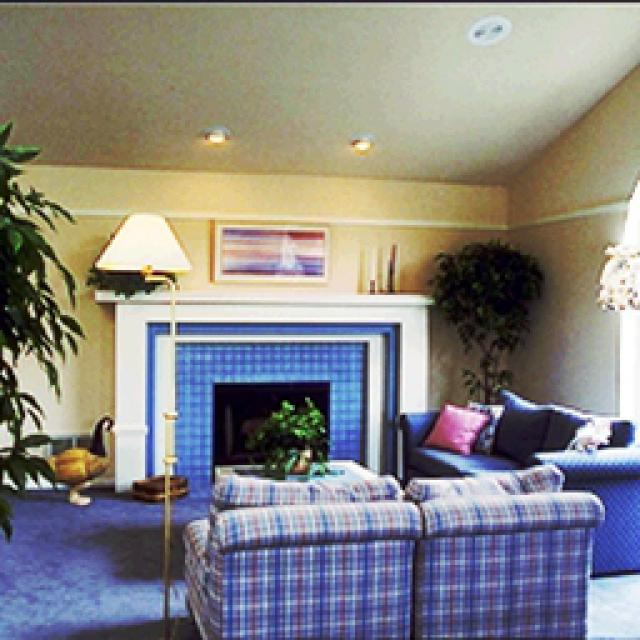2001: (615, 310, 638, 415)
box contants: (128, 470, 185, 500)
candles: (362, 240, 398, 288)
ceiling beam: (0, 2, 635, 182)
ceiling lamps: (345, 132, 368, 150), (202, 125, 225, 140)
curtain crop: (598, 180, 635, 308)
fireplace mantle: (95, 288, 435, 492)
lamp crop: (92, 208, 188, 628)
painting crop: (210, 220, 330, 280)
pillow occluded: (420, 400, 485, 450), (468, 402, 502, 452)
plant -x: (0, 118, 82, 535), (432, 238, 540, 398), (245, 392, 328, 472), (82, 270, 162, 298)
small table part: (210, 452, 385, 480)
smoke detector: (468, 12, 510, 45)
sofa bed: (178, 462, 600, 635), (405, 390, 635, 572)
statue: (48, 408, 112, 502)
